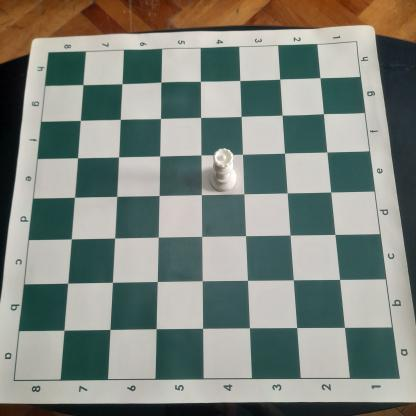white-queen: (208, 146, 238, 194)
